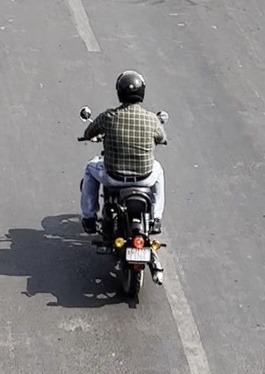BikeWithRider: (71, 65, 174, 305)
Helmet: (110, 65, 150, 108)
